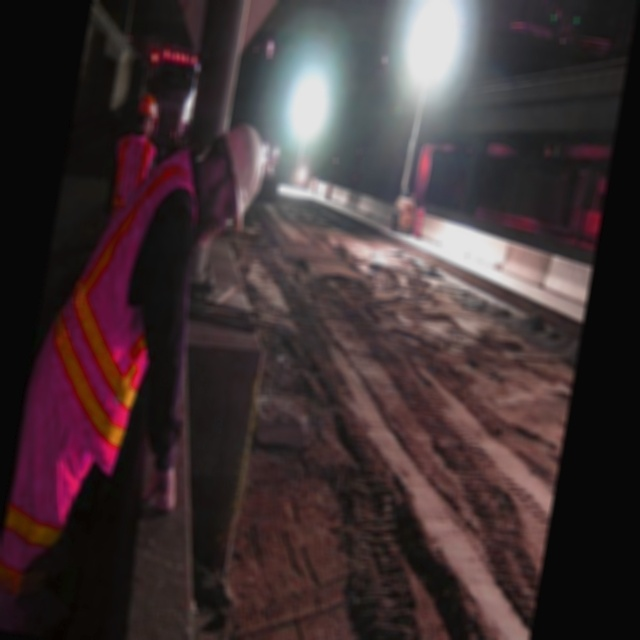Con_Casco: (190, 119, 273, 248), (134, 90, 160, 135)
Con_Chaleco: (42, 143, 202, 474), (106, 132, 157, 223)
